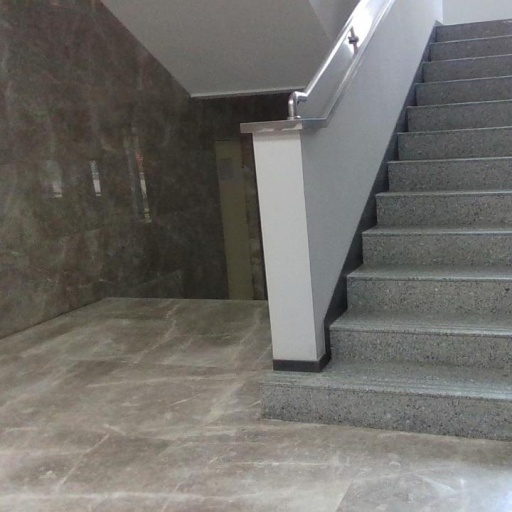Stairs: (263, 20, 512, 438)
